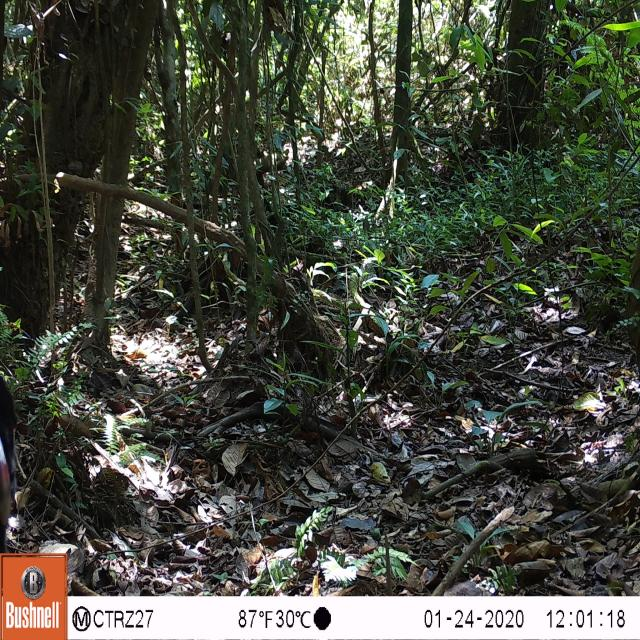Salvins Curassow: (0, 360, 26, 556)
